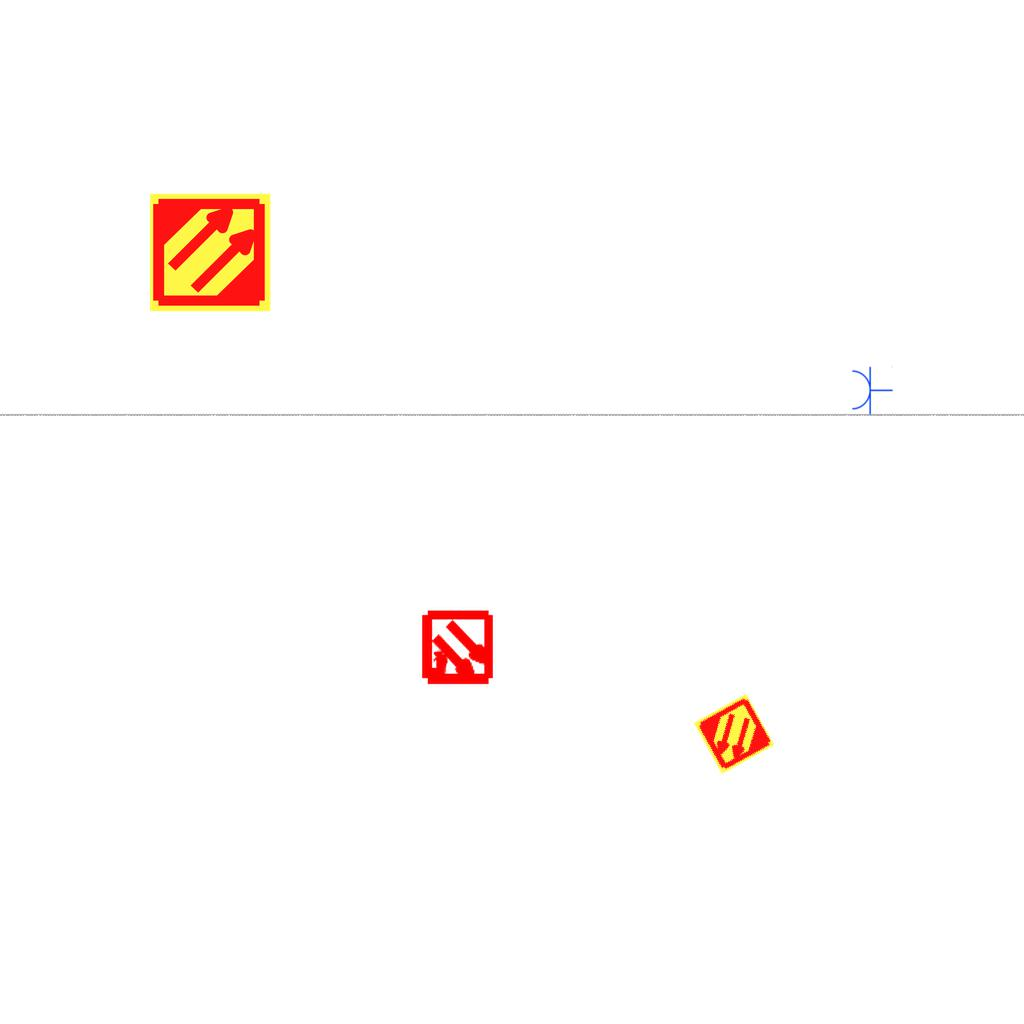ASR_Ansaugrauchmelder: (148, 190, 273, 315), (691, 691, 777, 777)
OT_Multisensormelder_(Kombination_RMO_WMD): (401, 593, 514, 706)
Schukosteckdose_einfach: (850, 365, 893, 415)
